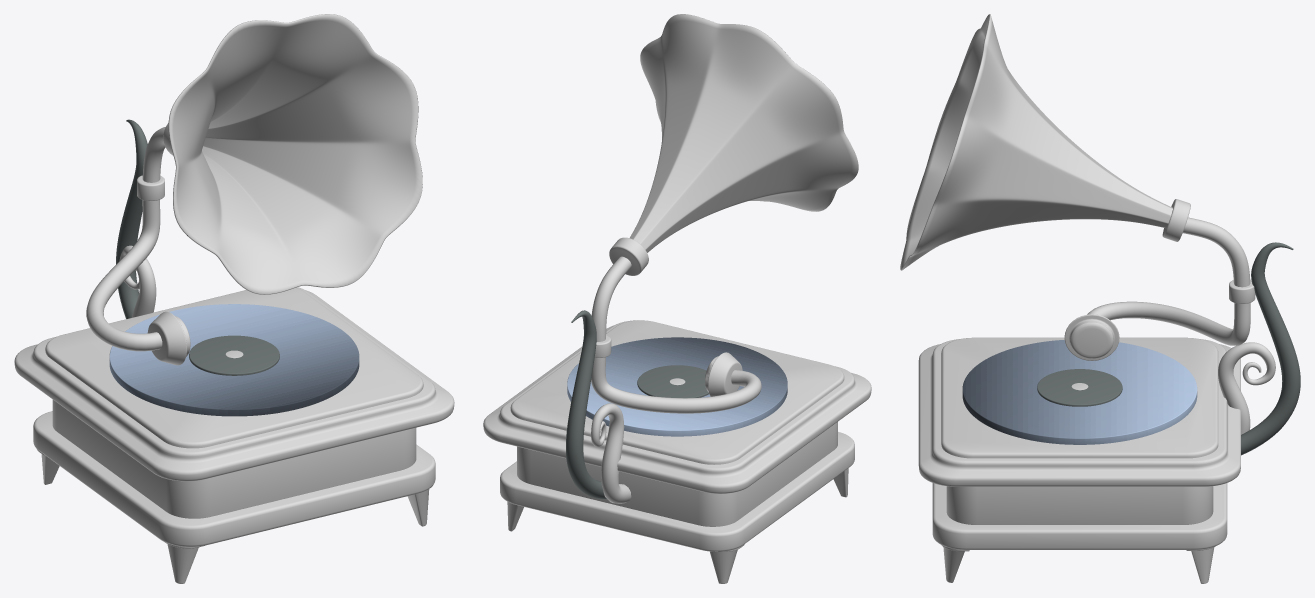
Rendered from realisticgramophone.fbx.
The picture shows the model from 3 angles, left to right: view 1: azimuth 30°, elevation 25°; view 2: azimuth 150°, elevation 25°; view 3: azimuth 270°, elevation 25°; orthographic projection. The views are drawn at different scales.
Visible parts, largest first — view 1: Cylinder, Cylinder.002, Cube.002, Cube.003, Cube.001, Cube, NurbsPath, Cylinder.003, NurbsPath.001, Cylinder.005, NurbsPath.002, Cube.007 (+1 smaller); view 2: Cylinder, Cube.002, Cube.003, Cylinder.002, Cube, Cube.001, NurbsPath, NurbsPath.001, NurbsPath.002, Cylinder.003, Cylinder.005, Cylinder.001 (+1 smaller); view 3: Cylinder, Cylinder.002, Cube.003, Cube.002, Cube.001, Cube, NurbsPath, NurbsPath.001, Cylinder.003, NurbsPath.002, Cylinder.005, Cylinder.001 (+2 smaller).
Part boxes in pixels (x1,y1,x2,y2): Cylinder: (168, 14, 422, 294); Cylinder.002: (109, 304, 359, 416); Cube.002: (14, 287, 454, 481); Cube.003: (45, 288, 423, 448); Cube.001: (52, 400, 416, 518); Cube: (33, 411, 435, 546); NurbsPath: (86, 127, 165, 351); Cylinder.003: (189, 335, 279, 375); NurbsPath.001: (116, 119, 147, 318); Cylinder.005: (147, 311, 190, 365); NurbsPath.002: (119, 245, 156, 317); Cube.007: (165, 542, 204, 583); Cylinder: (629, 14, 858, 252); Cube.002: (483, 320, 871, 493); Cube.003: (510, 320, 844, 464); Cylinder.002: (567, 337, 787, 436); Cube: (500, 432, 854, 551); Cube.001: (517, 422, 837, 526); NurbsPath: (591, 256, 761, 413); NurbsPath.001: (566, 310, 606, 499); NurbsPath.002: (591, 403, 631, 503); Cylinder.003: (637, 365, 708, 398); Cylinder.005: (705, 352, 742, 396); Cylinder.001: (609, 237, 648, 275); Cylinder: (900, 14, 1172, 270); Cylinder.002: (962, 340, 1197, 444); Cube.003: (941, 337, 1218, 458); Cube.002: (918, 339, 1240, 486); Cube.001: (946, 486, 1213, 524); Cube: (932, 483, 1227, 549); NurbsPath: (1087, 217, 1250, 345); NurbsPath.001: (1241, 242, 1300, 455); Cylinder.003: (1037, 369, 1122, 406); NurbsPath.002: (1218, 342, 1275, 434); Cylinder.005: (1064, 314, 1119, 360); Cylinder.001: (1162, 199, 1190, 241).
Size of the model in its own units: 256 by 432 by 318.
2 materials, 1 textured.
